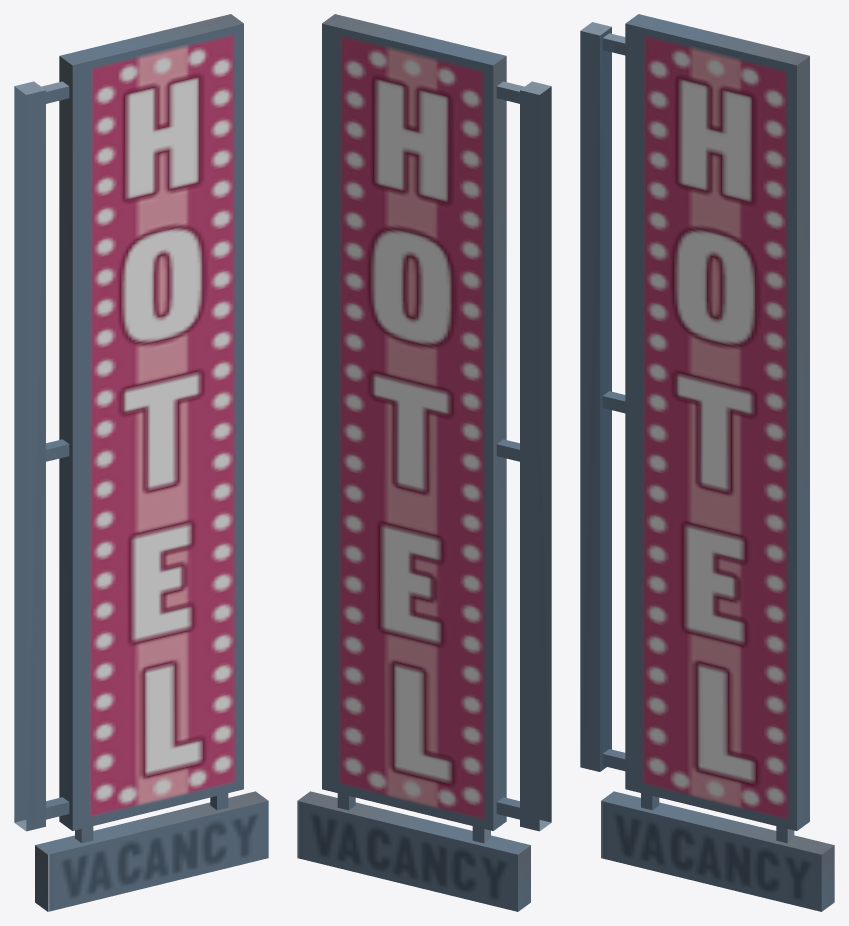
The model's file is SM_Sign_Hotel_01.fbx.
3 renders of one model, left to right at view 1: azimuth 30°, elevation 25°; view 2: azimuth 150°, elevation 25°; view 3: azimuth 330°, elevation 25°, orthographic.
Visible parts, largest first — view 1: SM_Sign_Hotel_01; view 2: SM_Sign_Hotel_01; view 3: SM_Sign_Hotel_01.
Part boxes in pixels (x1,y1,x2,y2): SM_Sign_Hotel_01: [14, 14, 268, 911]; SM_Sign_Hotel_01: [297, 14, 551, 911]; SM_Sign_Hotel_01: [580, 14, 834, 911].
Size of the model in its own units: 2.28 by 7.57 by 0.2137.
